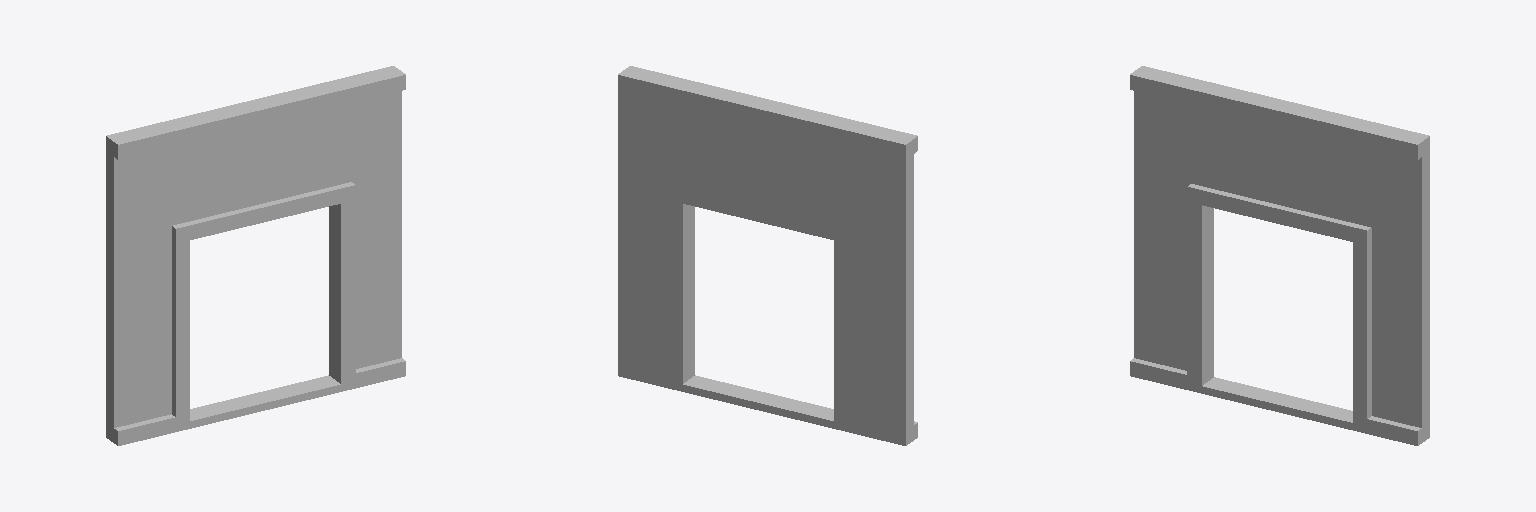
File: doubledoorway.obj
3 views of the same model, side by side, from view 1: azimuth 30°, elevation 25°; view 2: azimuth 150°, elevation 25°; view 3: azimuth 330°, elevation 25° (orthographic).
Parts seen in each view (by area): view 1: object 1; view 2: object 1; view 3: object 1.
Boxes of the visible parts, x1=… form: object 1: x1=106, y1=66, x2=405, y2=445; object 1: x1=618, y1=66, x2=917, y2=445; object 1: x1=1130, y1=66, x2=1429, y2=445.
Size of the model in its own units: 4 by 4 by 0.3.